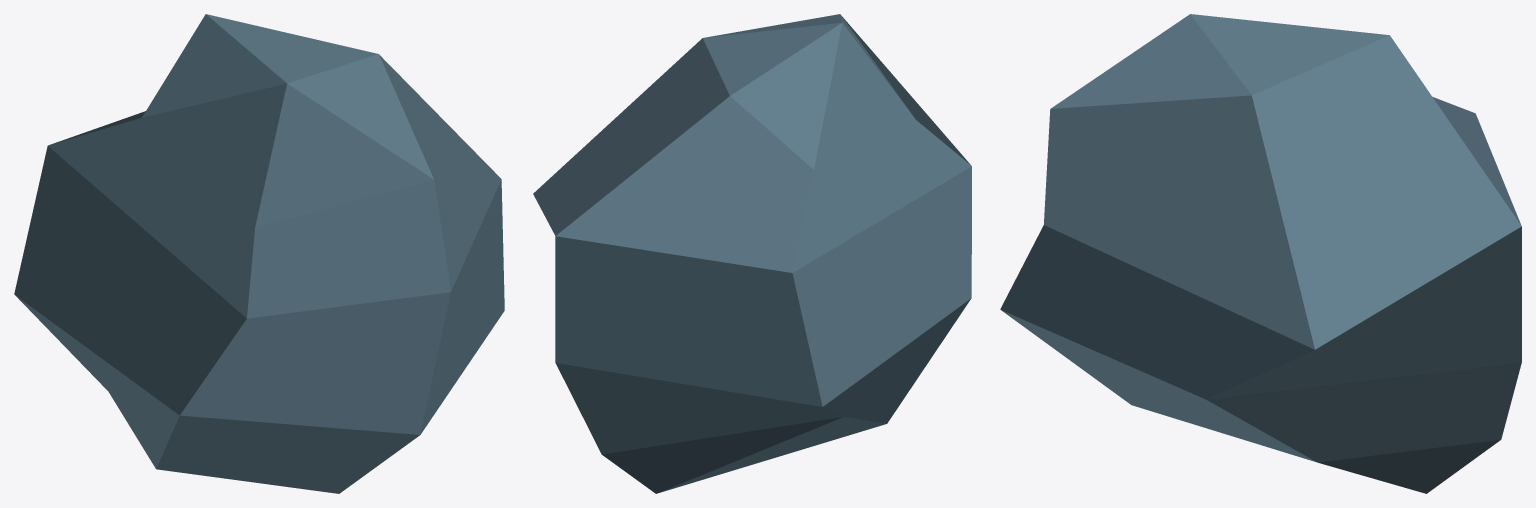
File: rock2.fbx
The picture shows the model from 3 angles, left to right: view 1: azimuth 30°, elevation 25°; view 2: azimuth 150°, elevation 25°; view 3: azimuth 270°, elevation 25°; orthographic projection. The views are drawn at different scales.
Visible parts, largest first — view 1: pSphere1; view 2: pSphere1; view 3: pSphere1.
Part boxes in pixels (bbox=[...]): pSphere1: bbox=[14, 14, 504, 493]; pSphere1: bbox=[533, 14, 971, 493]; pSphere1: bbox=[1000, 14, 1521, 493].
Size of the model in its own units: 3.38 by 3.63 by 3.9.
